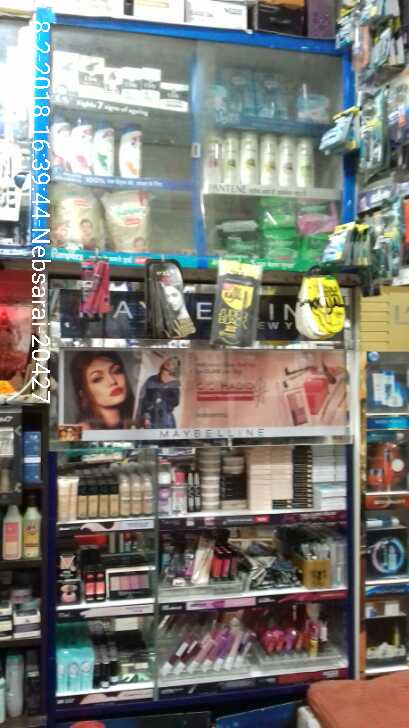gillete: (321, 109, 360, 156), (365, 113, 387, 171), (322, 224, 353, 263), (360, 1, 398, 24), (389, 86, 409, 129), (334, 7, 354, 49), (358, 227, 375, 266), (383, 223, 402, 256)
venus: (257, 70, 287, 119), (229, 70, 257, 113), (294, 92, 333, 118), (210, 84, 229, 113)
